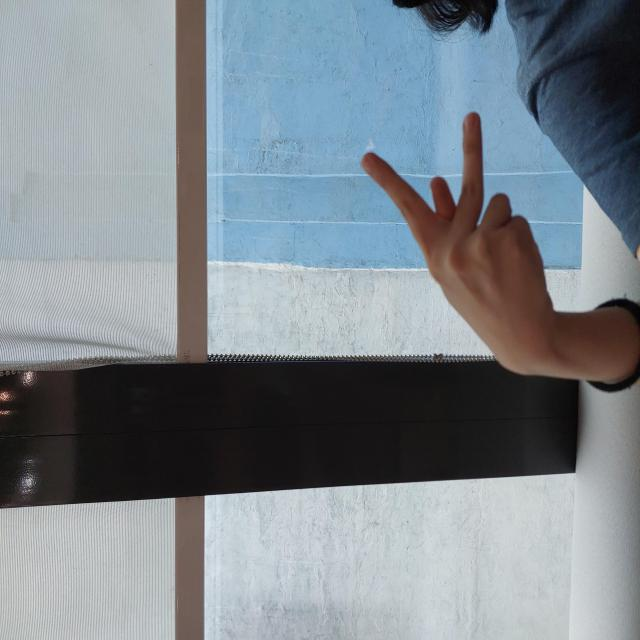K: (285, 360, 529, 554)
